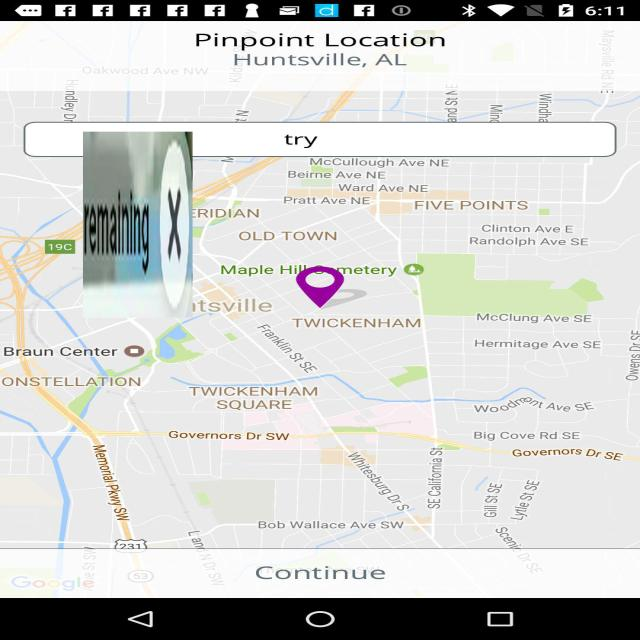misdirection: (83, 132, 193, 318)
